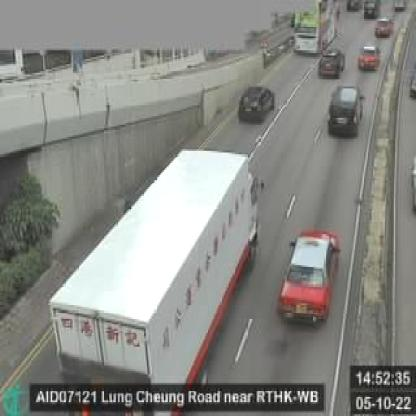Car: (276, 225, 336, 326), (328, 85, 362, 139), (238, 85, 274, 125), (318, 47, 346, 80), (358, 45, 379, 71), (374, 15, 392, 40)
Truck: (60, 148, 261, 387)
